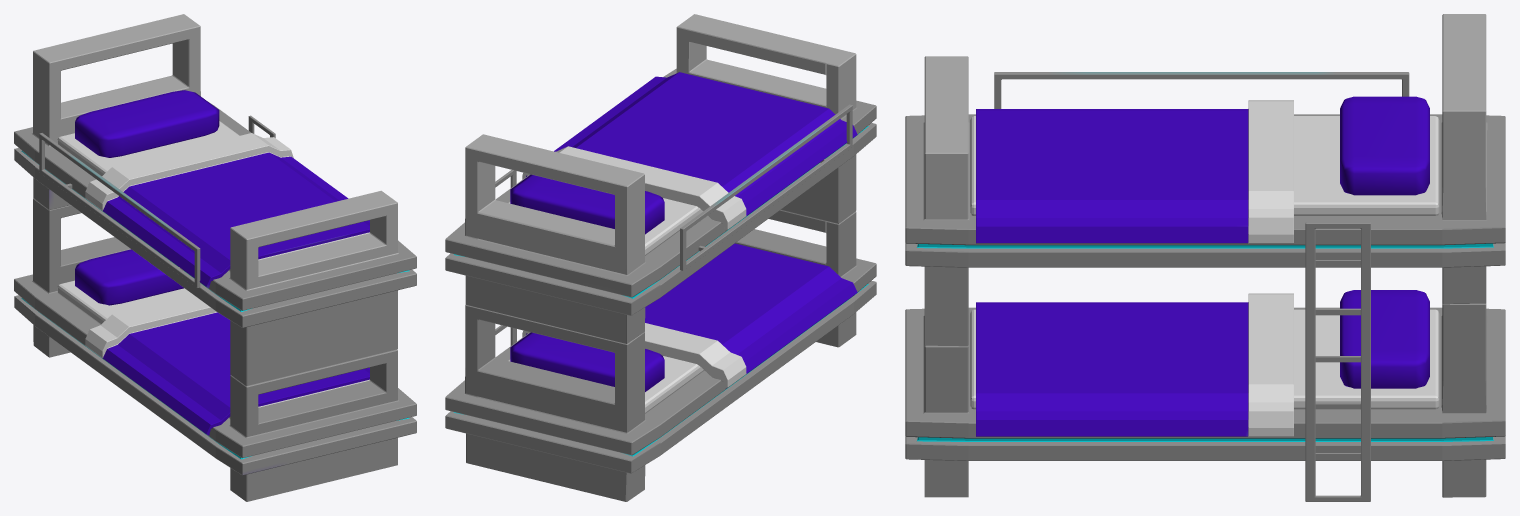
The model's file is SM_Bed_01.fbx.
3 renders of one model, left to right at view 1: azimuth 30°, elevation 25°; view 2: azimuth 150°, elevation 25°; view 3: azimuth 270°, elevation 25°, orthographic. The views are drawn at different scales.
Visible parts, largest first — view 1: SM_Bed_01; view 2: SM_Bed_01; view 3: SM_Bed_01.
Boxes of the visible parts, left/top/right/bottom form: SM_Bed_01: left=14, top=14, right=416, bottom=501; SM_Bed_01: left=445, top=14, right=876, bottom=501; SM_Bed_01: left=905, top=14, right=1505, bottom=501.
Size of the model in its own units: 158 by 317 by 225.
